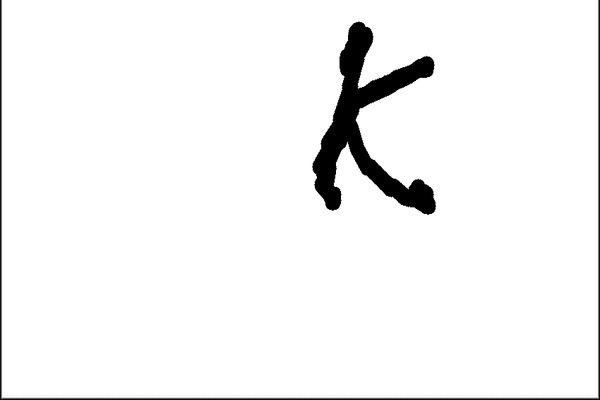K: (303, 15, 442, 218)
